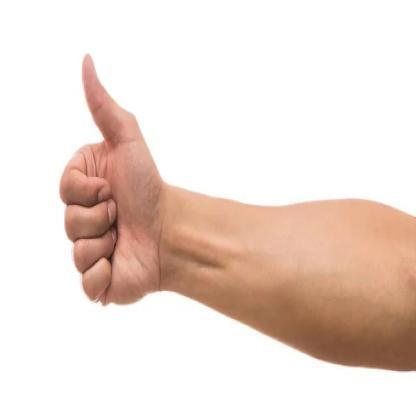thumb_up: (56, 53, 165, 312)
